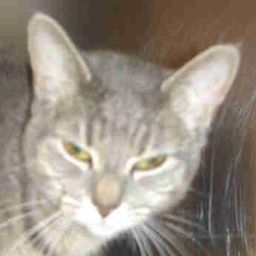cat: (0, 12, 232, 253)
